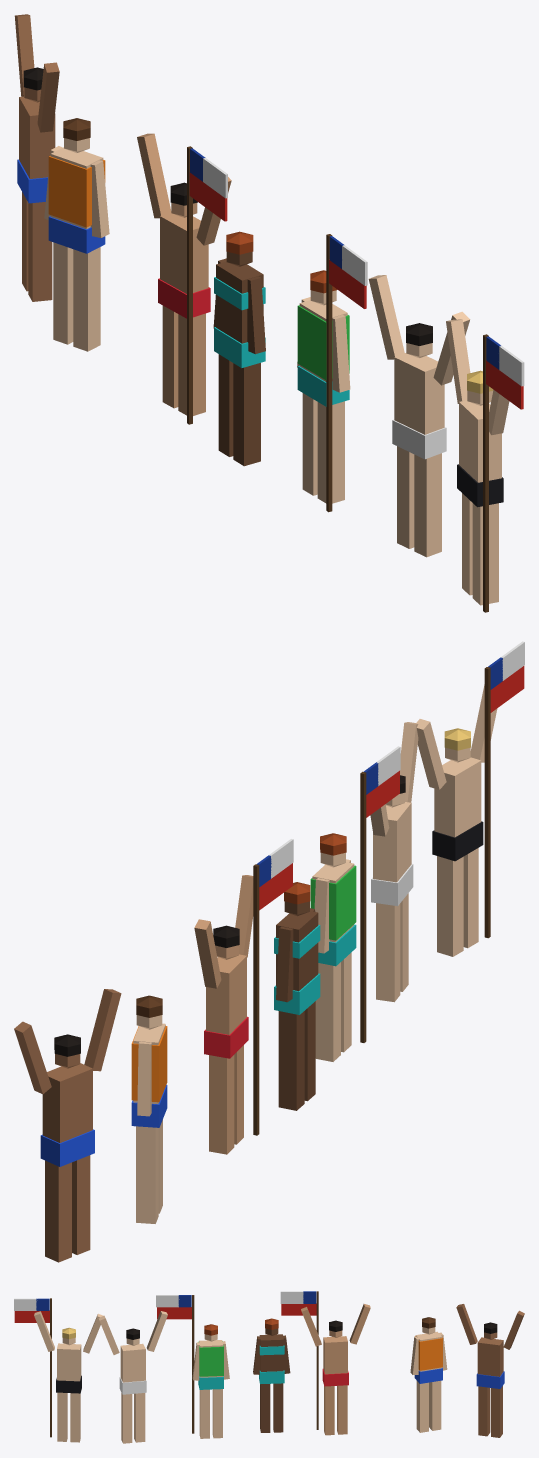
File: publico_playa_1.obj
3 views of the same model, one above another, from view 1: azimuth 30°, elevation 25°; view 2: azimuth 150°, elevation 25°; view 3: azimuth 270°, elevation 25° (orthographic). The views are drawn at different scales.
Parts seen in each view (by area): view 1: publico_playa_1; view 2: publico_playa_1; view 3: publico_playa_1.
Part boxes in pixels (<box>): publico_playa_1: <box>14,14,524,612</box>; publico_playa_1: <box>14,641,524,1262</box>; publico_playa_1: <box>14,1291,524,1443</box>.
Bounding box in the file's own units: 0.664 × 2.1 × 7.05.
